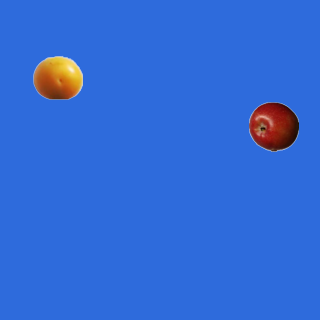Apple Braeburn: (248, 101, 298, 151)
Cherry Wax Yellow: (32, 52, 82, 102)
